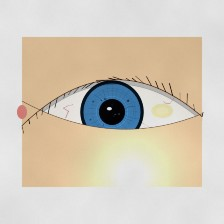pinguecula_lesion: (140, 93, 184, 128)
